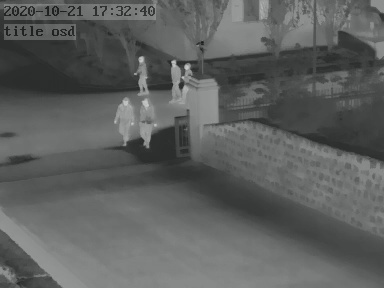person: (139, 95, 157, 147), (116, 96, 135, 144), (134, 54, 149, 94), (168, 60, 180, 104), (183, 60, 194, 87)
